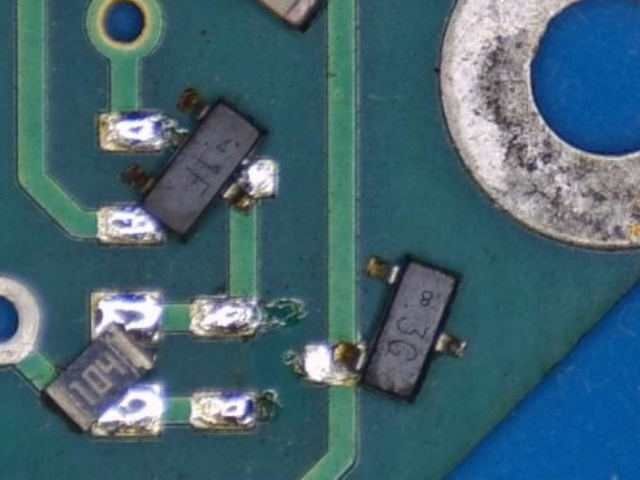pcb_defect: (97, 87, 275, 245), (304, 255, 469, 406), (41, 290, 162, 439)
